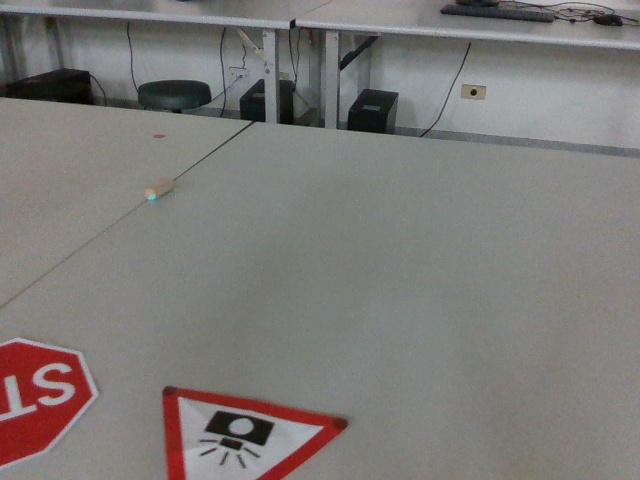camera: (156, 376, 351, 480)
